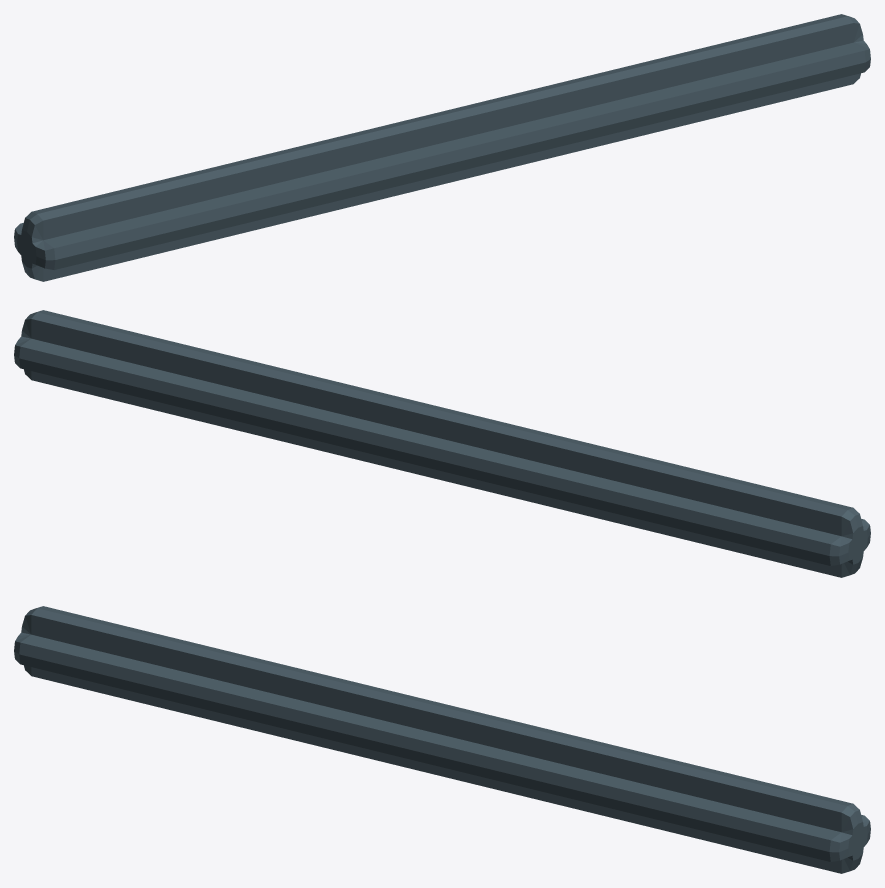
3 renders of one model, top to bottom at view 1: azimuth 30°, elevation 25°; view 2: azimuth 150°, elevation 25°; view 3: azimuth 330°, elevation 25°, orthographic.
Parts seen in each view (by area): view 1: world; view 2: world; view 3: world.
Part boxes in pixels (box(x1,y1,x2,y2)): world: box(14, 14, 870, 281); world: box(14, 310, 870, 577); world: box(14, 606, 870, 873).
Size of the model in its own units: 0.0636 by 0.0048 by 0.0048.
